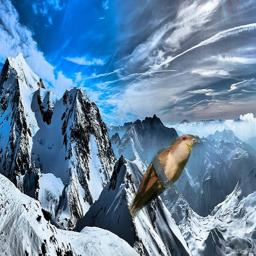Cuckoo: (126, 134, 199, 220)
